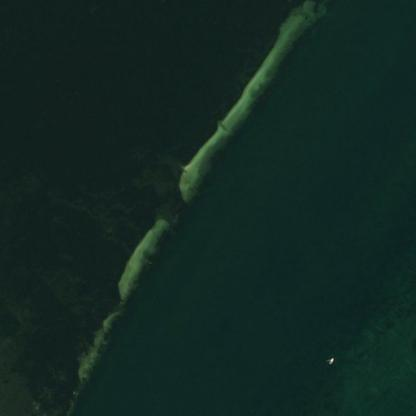ship: (326, 357, 331, 363)
